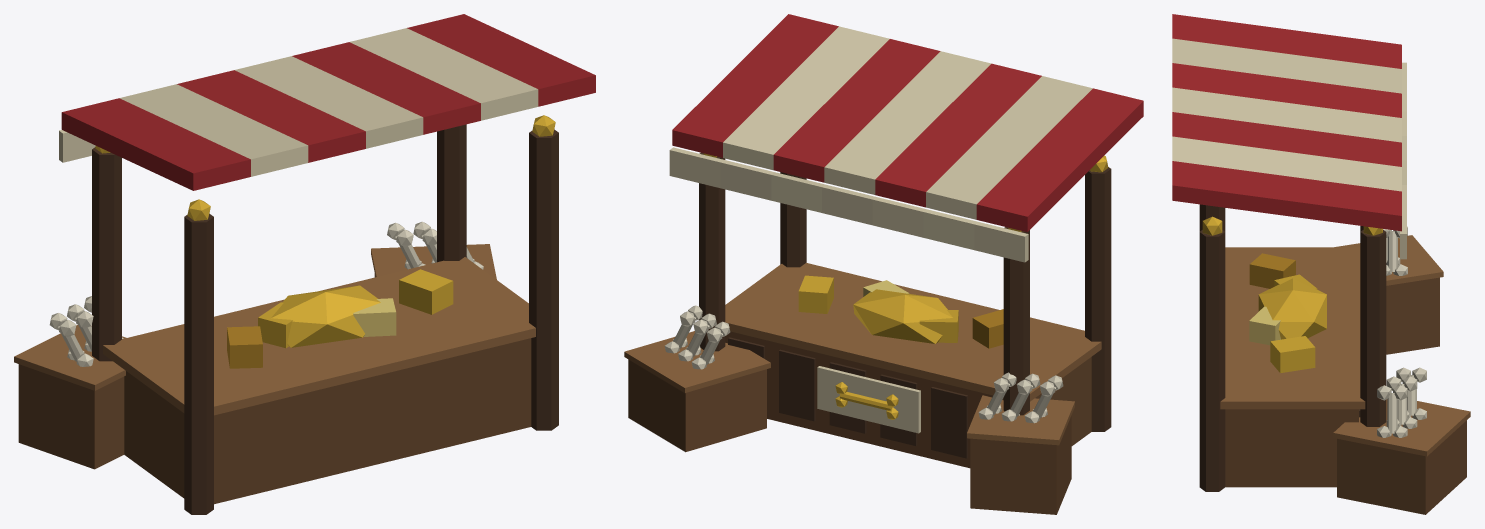
The model's file is Decor_DogeAltar_Stall.fbx.
3 renders of one model, left to right at view 1: azimuth 30°, elevation 25°; view 2: azimuth 150°, elevation 25°; view 3: azimuth 270°, elevation 25°, orthographic. The views are drawn at different scales.
Visible parts, largest first — view 1: Stall_Body; view 2: Stall_Body; view 3: Stall_Body.
Part boxes in pixels (x1=…): Stall_Body: x1=14, y1=14, x2=595, y2=514; Stall_Body: x1=624, y1=14, x2=1143, y2=514; Stall_Body: x1=1172, y1=14, x2=1470, y2=514.
Size of the model in its own units: 16.5 by 11.72 by 10.09.
